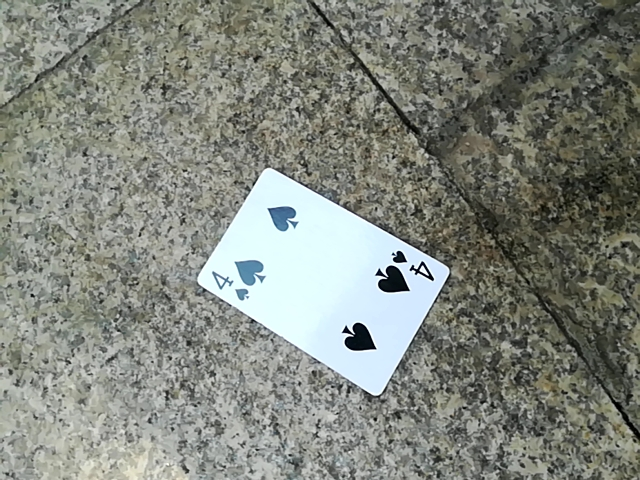ht 4: (192, 169, 443, 403)
